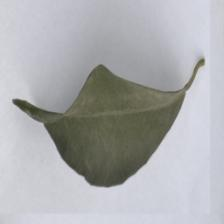healthy: (12, 57, 209, 191)
